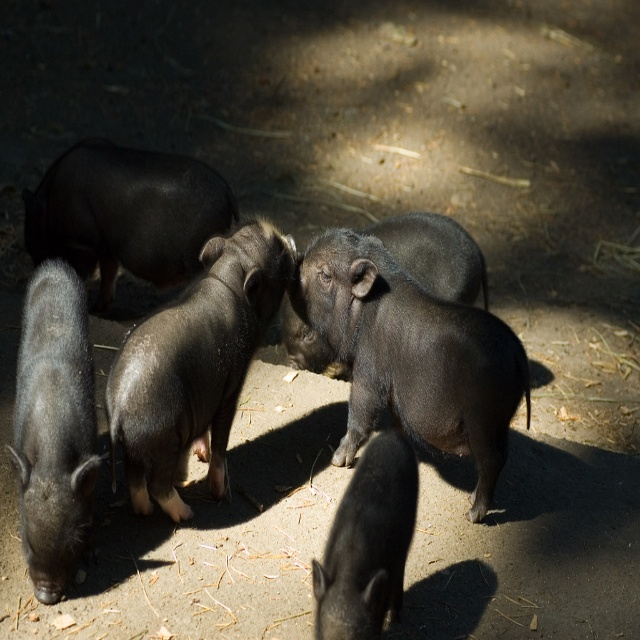Pig: (4, 140, 532, 640)
